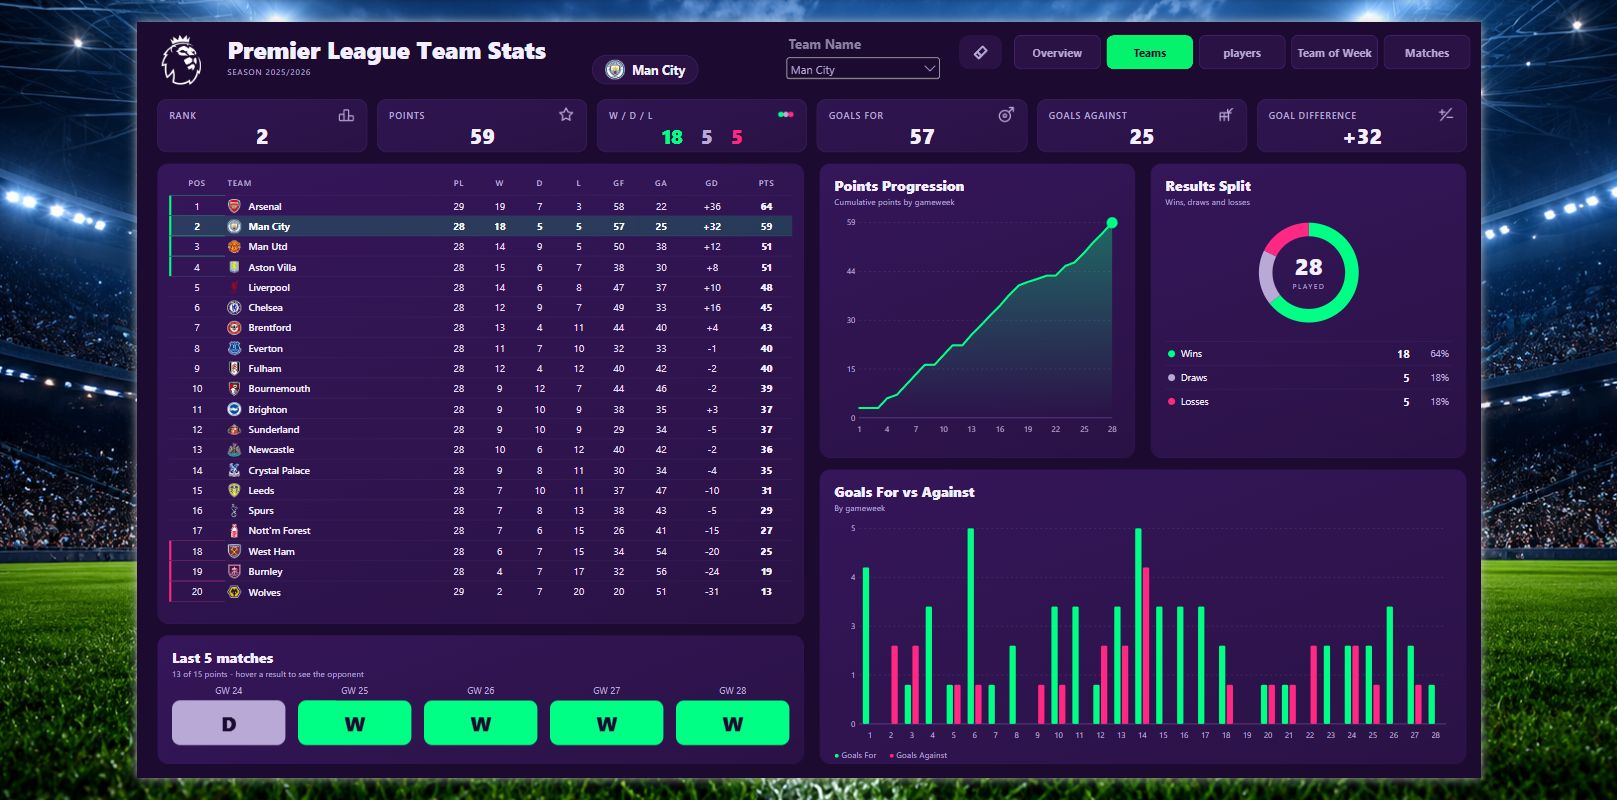

What the dashboard file says about the page in this screenshot:
{"tool":"powerbi","page":{"name":"Teams","canvas":[1920,1080],"ordinal":2},"visuals":[{"type":"htmlContent443BE3AD55E043BF878BED274D3A6855","fields":{"content":["Html.HTML Team Page 2"]},"box":[0,0,1978,1128],"z":0},{"type":"slicer","fields":{"Values":["Teams Dim.Team Name"]},"box":[923.1,18.5,229.2,76.9],"z":1000},{"type":"actionButton","box":[1173.7,18.2,61.6,49.5],"z":2000},{"type":"image","box":[13.8,18.5,98.5,70.8],"z":3000},{"type":"pageNavigator","box":[1252.5,18.2,652,49],"z":4000}]}

Visuals, with their boxes on the page's 1920x1080 design canvas (x1, y1, x2, y2). These are canvas units, not pixel positions in the 1617x800 screenshot, which may show the page scaled, cropped or inside an application window:
htmlContent443BE3AD55E043BF878BED274D3A6855 - Html.HTML Team Page 2: 0/0/1978/1128
slicer - Teams Dim.Team Name: 923/18/1152/95
actionButton: 1174/18/1235/68
image: 14/18/112/89
pageNavigator: 1252/18/1904/67
